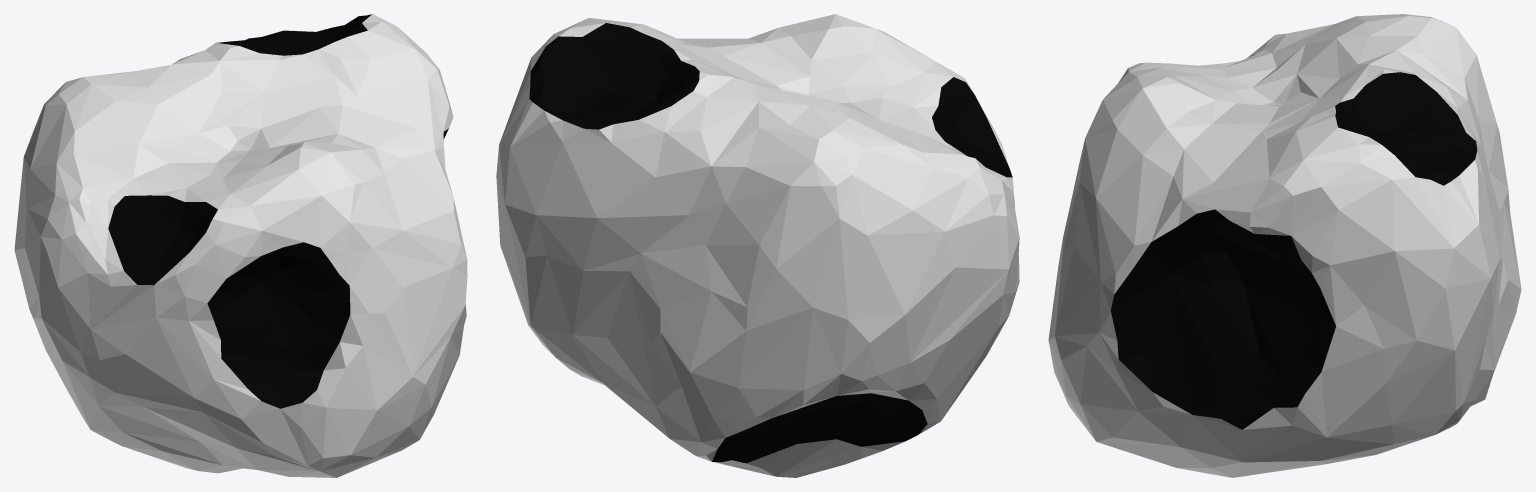
The model's file is space_SM_Env_Astroid_Holes_02.gltf.
The picture shows the model from 3 angles, left to right: view 1: azimuth 30°, elevation 25°; view 2: azimuth 150°, elevation 25°; view 3: azimuth 270°, elevation 25°; orthographic projection. The views are drawn at different scales.
Parts seen in each view (by area): view 1: SM_Env_Astroid_Holes_02; view 2: SM_Env_Astroid_Holes_02; view 3: SM_Env_Astroid_Holes_02.
Boxes of the visible parts, x1,y1,x2,y2 form: SM_Env_Astroid_Holes_02: [14, 14, 467, 477]; SM_Env_Astroid_Holes_02: [496, 14, 1019, 477]; SM_Env_Astroid_Holes_02: [1048, 14, 1521, 477].
Bounding box in the file's own units: 6.4 × 5.46 × 5.71.
1 material, 1 textured.
